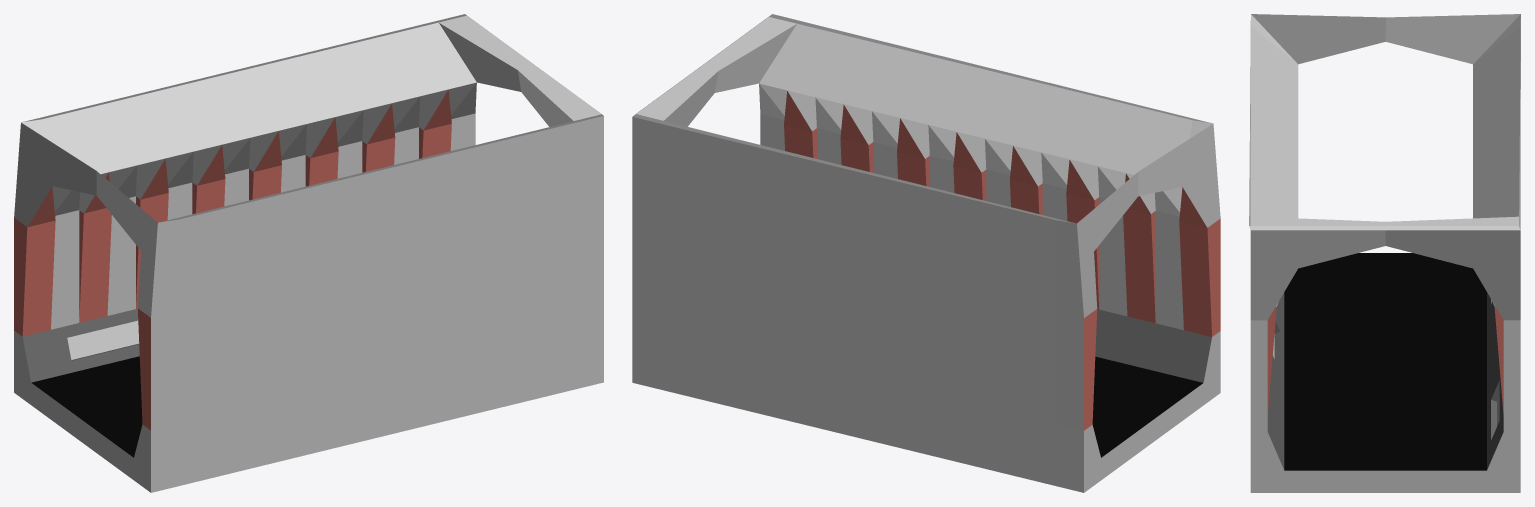
3 renders of one model, left to right at view 1: azimuth 30°, elevation 25°; view 2: azimuth 150°, elevation 25°; view 3: azimuth 270°, elevation 25°, orthographic.
Parts seen in each view (by area): view 1: Cube; view 2: Cube; view 3: Cube.
Boxes of the visible parts, x1,y1,x2,y2 form: Cube: (14,14,603,492); Cube: (632,14,1220,492); Cube: (1249,14,1520,492).
Bounding box in the file's own units: 840 × 478 × 443.
